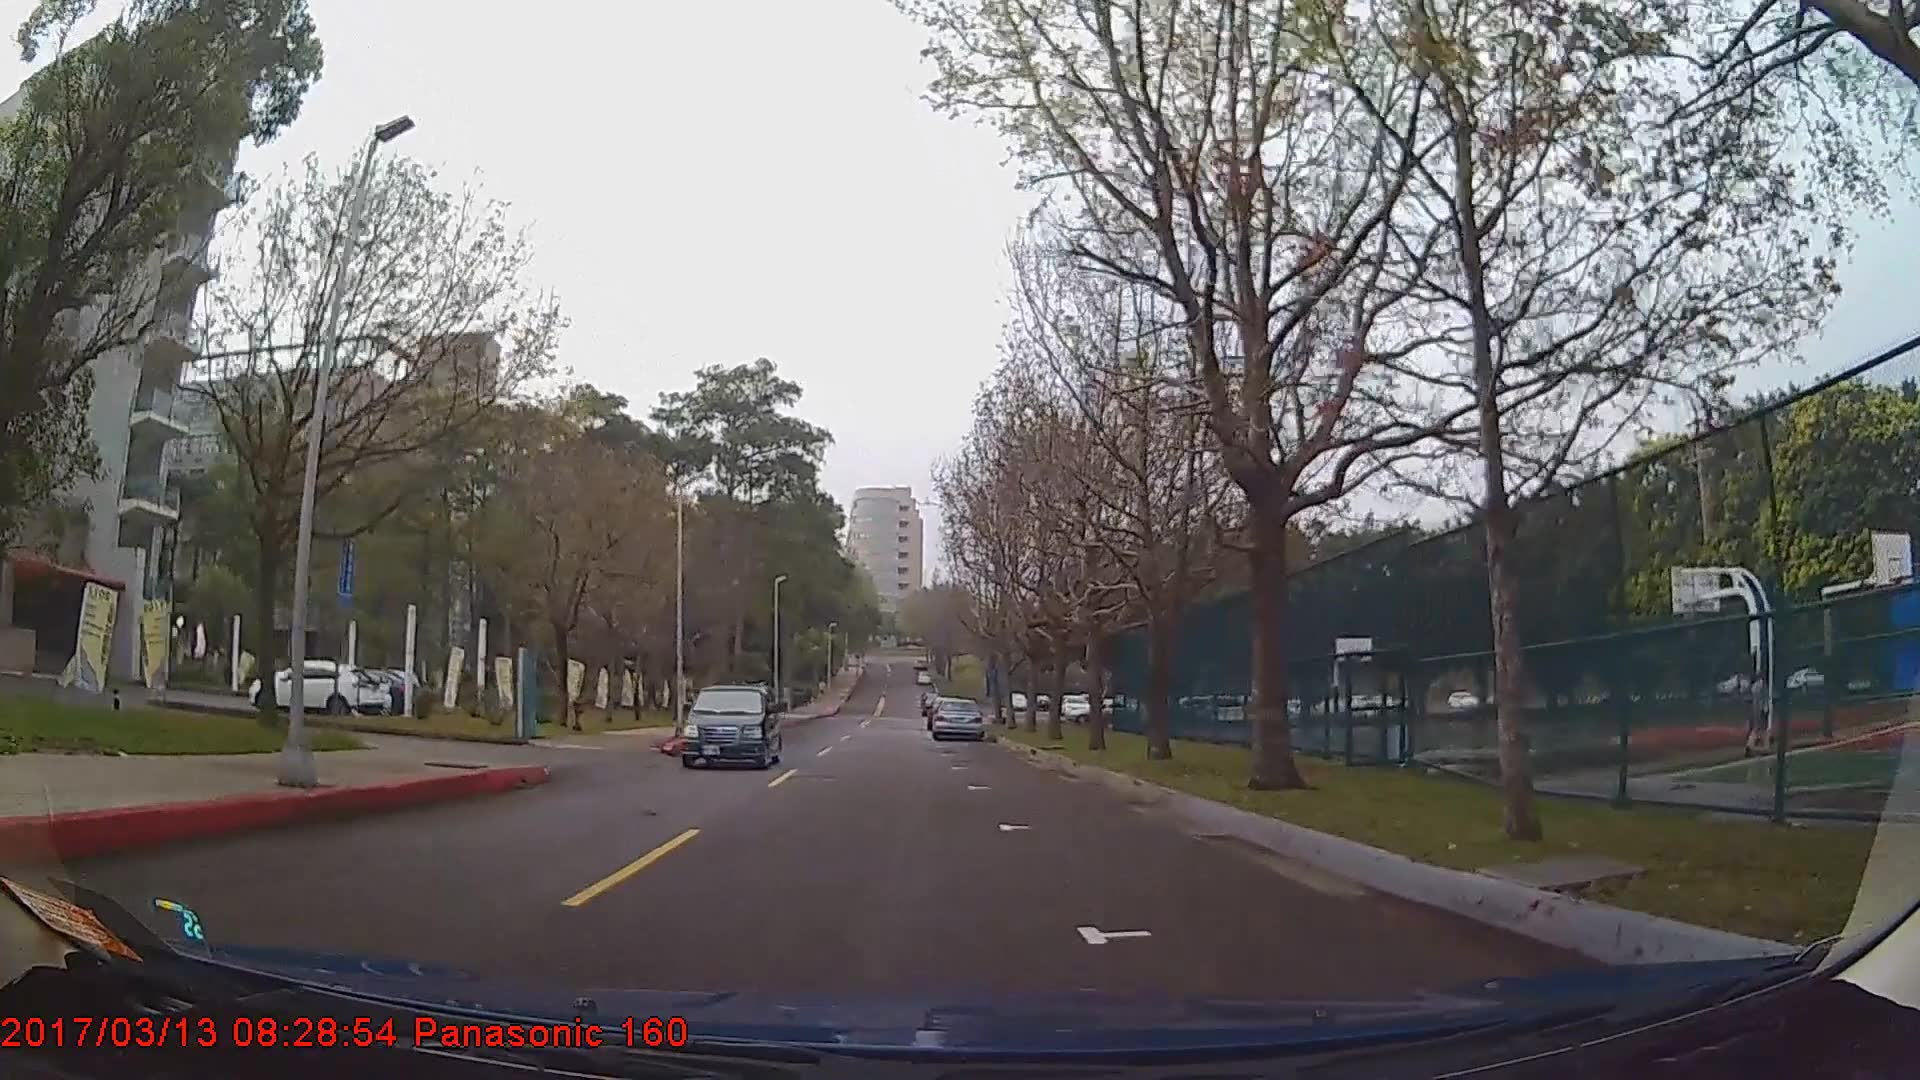vehicle: (679, 680, 785, 769), (243, 659, 381, 717), (931, 695, 984, 740)
